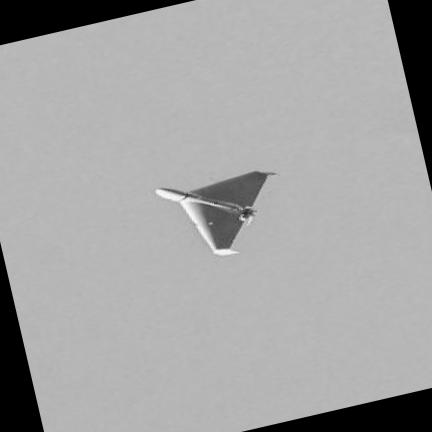Shahed: (156, 171, 272, 253)
